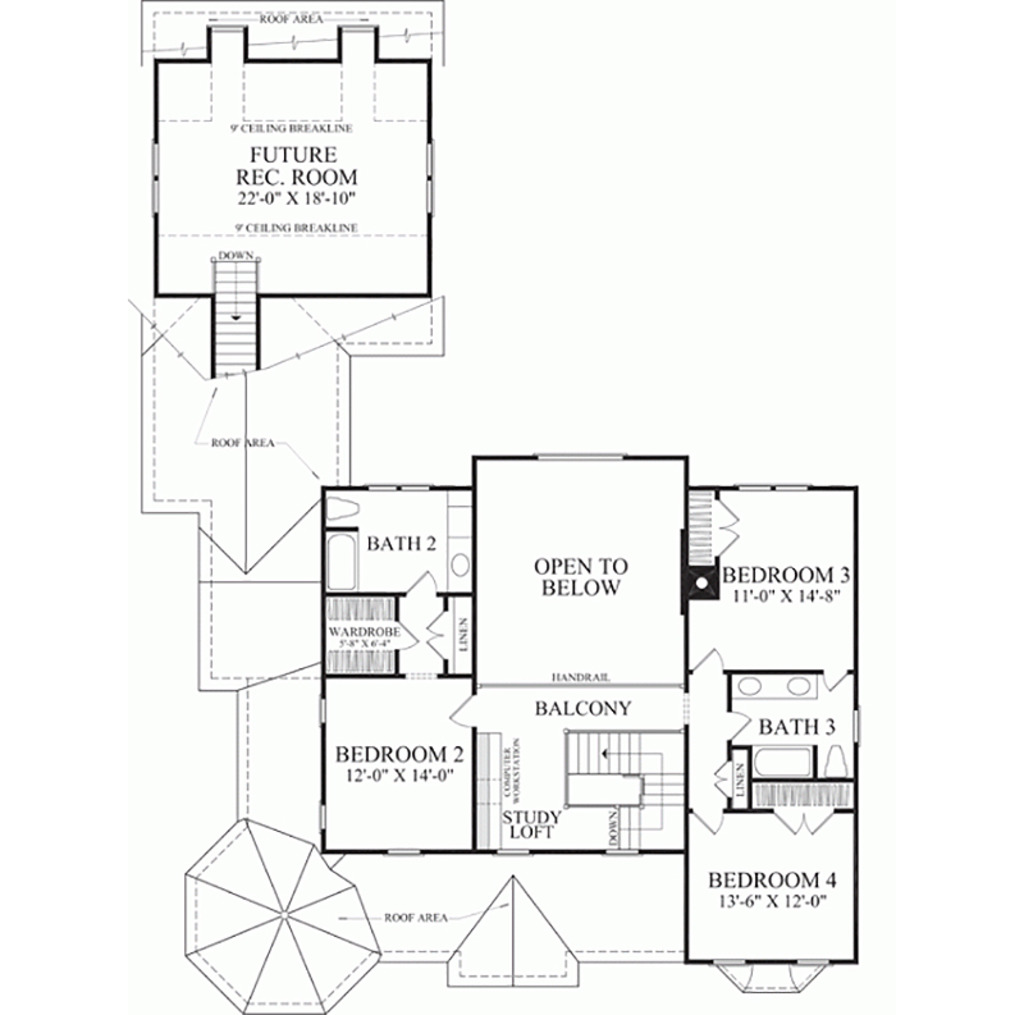door: (766, 806, 839, 837), (716, 501, 739, 562), (447, 697, 479, 737), (690, 802, 729, 833), (426, 605, 448, 659), (690, 648, 726, 679), (392, 616, 420, 655), (405, 569, 439, 601)
large_sink: (317, 493, 366, 531), (818, 739, 848, 779)
small_sink: (729, 673, 818, 698), (444, 537, 475, 592)
stairs: (560, 725, 685, 852), (206, 247, 259, 381)
tub: (747, 746, 818, 783), (321, 525, 358, 593)
window: (531, 448, 629, 469), (422, 138, 440, 219), (363, 478, 432, 498), (730, 478, 807, 495), (151, 135, 163, 216), (313, 801, 331, 834), (497, 848, 531, 863), (315, 693, 328, 732), (377, 847, 421, 857)
